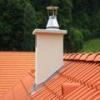chimneys: (32, 6, 68, 85)
